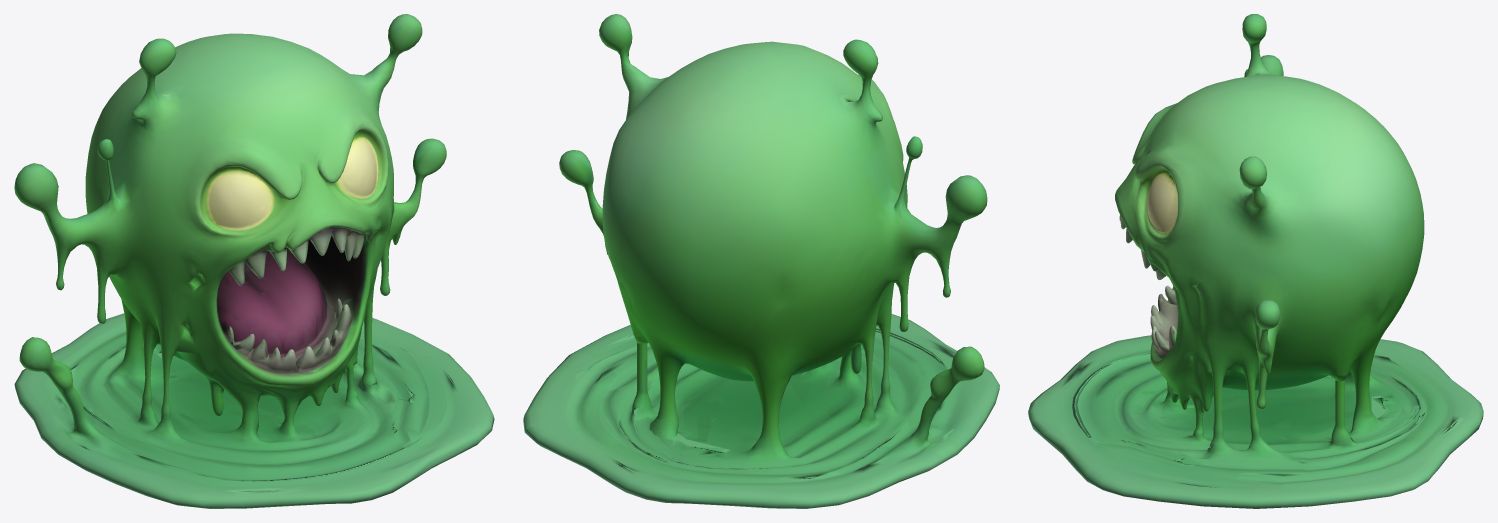
The model's file is SLI%ME MONSTER LOW .fbx.
The picture shows the model from 3 angles, left to right: view 1: azimuth 30°, elevation 25°; view 2: azimuth 150°, elevation 25°; view 3: azimuth 270°, elevation 25°; orthographic projection. The views are drawn at different scales.
Parts seen in each view (by area): view 1: material; view 2: material; view 3: material.
Part boxes in pixels (x1=…): material: x1=14, y1=14, x2=494, y2=508; material: x1=523, y1=14, x2=999, y2=508; material: x1=1028, y1=14, x2=1483, y2=508.
Bounding box in the file's own units: 87.53 × 78.25 × 87.53.
Materials: 1 (1 with a texture image).
